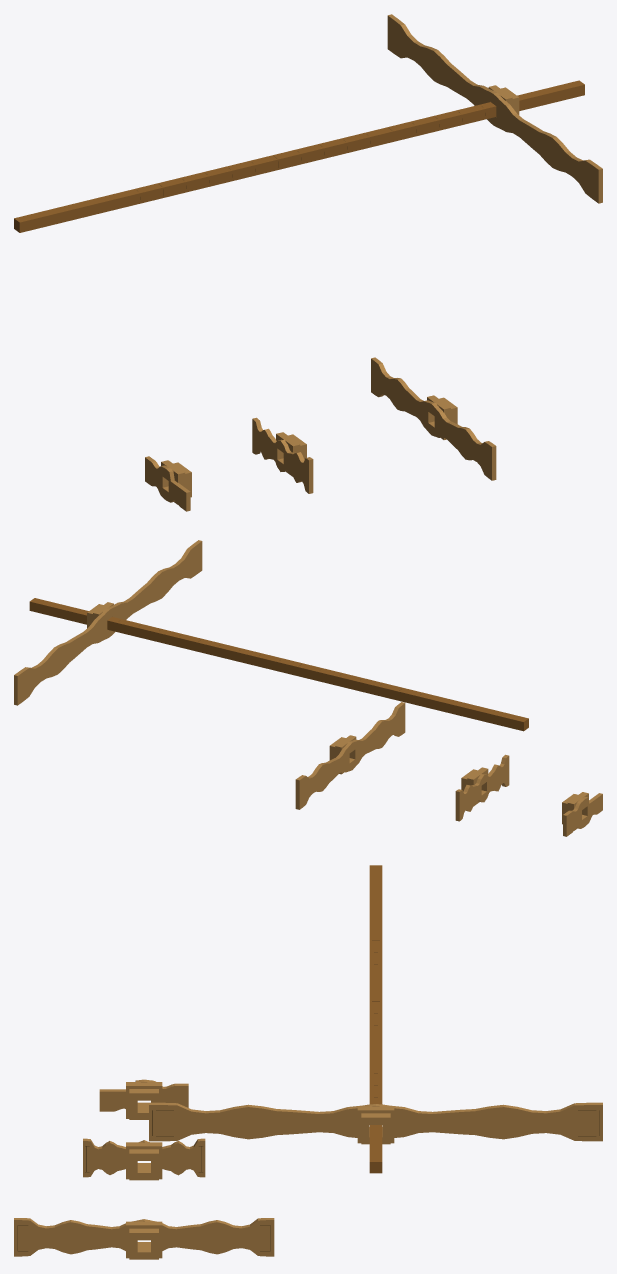
Rendered from NEW688_CrossStaff_LOD2_v001.glb.
3 views of the same model, one above another, from view 1: azimuth 30°, elevation 25°; view 2: azimuth 150°, elevation 25°; view 3: azimuth 270°, elevation 25° (orthographic). The views are drawn at different scales.
Visible parts, largest first — view 1: Staff_787mm, Vane_509mm_mounted_carved_body, Vane_292mm_spare_carved_body, Vane_137mm_spare_carved_body, Vane_100mm_spare_carved_body; view 2: Staff_787mm, Vane_509mm_mounted_carved_body, Vane_292mm_spare_carved_body, Vane_137mm_spare_carved_body, Vane_100mm_spare_carved_body; view 3: Vane_509mm_mounted_carved_body, Vane_292mm_spare_carved_body, Staff_787mm, Vane_137mm_spare_carved_body, Vane_100mm_spare_carved_body, Vane_292mm_spare_stepped_collar_lip, Vane_137mm_spare_stepped_collar_lip, Vane_509mm_mounted_stepped_collar_lip, Vane_100mm_spare_stepped_collar_lip, Vane_509mm_mounted_stepped_collar_base, Vane_137mm_spare_stepped_collar_base, Vane_292mm_spare_stepped_collar_base.
Boxes of the visible parts, <box> form: Staff_787mm: <box>14,80,584,232</box>; Vane_509mm_mounted_carved_body: <box>387,14,602,203</box>; Vane_292mm_spare_carved_body: <box>371,357,496,480</box>; Vane_137mm_spare_carved_body: <box>252,417,313,493</box>; Vane_100mm_spare_carved_body: <box>145,456,190,511</box>; Staff_787mm: <box>29,598,528,731</box>; Vane_509mm_mounted_carved_body: <box>14,540,202,705</box>; Vane_292mm_spare_carved_body: <box>295,702,405,809</box>; Vane_137mm_spare_carved_body: <box>455,754,509,821</box>; Vane_100mm_spare_carved_body: <box>563,793,602,836</box>; Vane_509mm_mounted_carved_body: <box>149,1102,602,1141</box>; Vane_292mm_spare_carved_body: <box>14,1218,274,1256</box>; Staff_787mm: <box>369,865,382,1173</box>; Vane_137mm_spare_carved_body: <box>83,1138,205,1177</box>; Vane_100mm_spare_carved_body: <box>99,1079,188,1111</box>; Vane_292mm_spare_stepped_collar_lip: <box>129,1228,158,1259</box>; Vane_137mm_spare_stepped_collar_lip: <box>129,1149,158,1180</box>; Vane_509mm_mounted_stepped_collar_lip: <box>361,1113,390,1144</box>; Vane_100mm_spare_stepped_collar_lip: <box>129,1089,158,1119</box>; Vane_509mm_mounted_stepped_collar_base: <box>357,1106,394,1143</box>; Vane_137mm_spare_stepped_collar_base: <box>126,1142,162,1179</box>; Vane_292mm_spare_stepped_collar_base: <box>126,1221,162,1258</box>.
Size of the model in its own units: 0.787 by 0.2975 by 0.6605.
